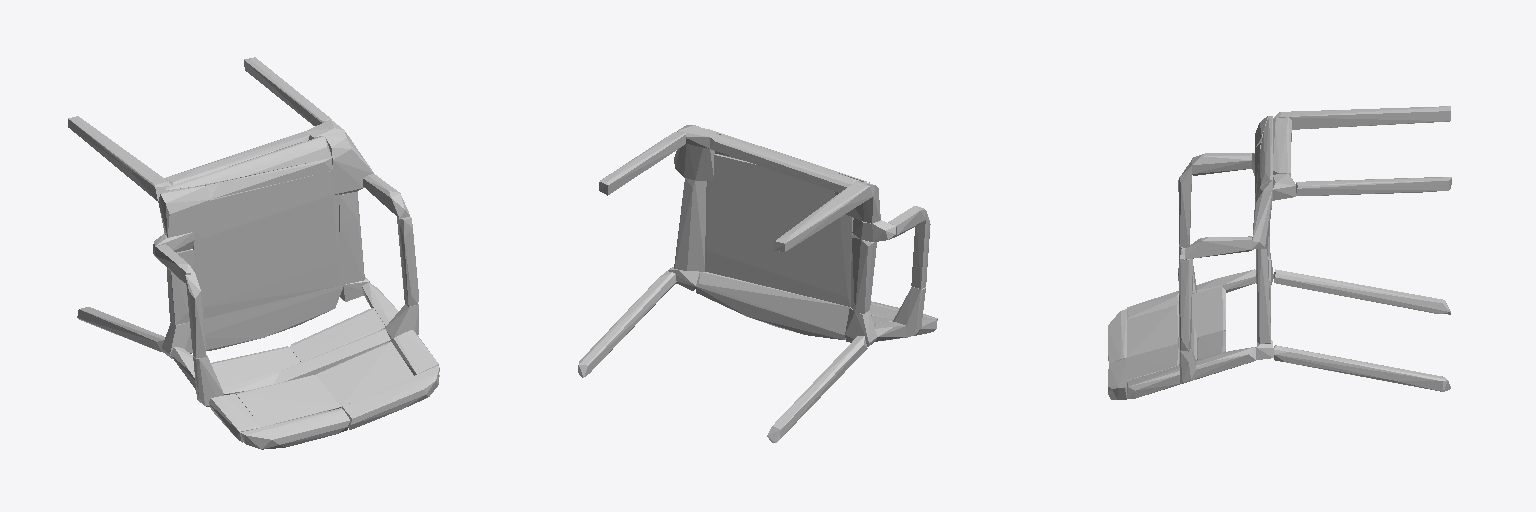
3 views of the same model, side by side, from view 1: azimuth 30°, elevation 25°; view 2: azimuth 150°, elevation 25°; view 3: azimuth 270°, elevation 25° (orthographic).
Parts seen in each view (by area): view 1: convex_23, convex_27, convex_19, convex_18, convex_7, convex_14, convex_6, convex_25, convex_2, convex_32, convex_24, convex_31 (+17 smaller); view 2: convex_23, convex_27, convex_3, convex_24, convex_1, convex_0, convex_2, convex_4, convex_21, convex_8, convex_10, convex_13 (+5 smaller); view 3: convex_2, convex_1, convex_0, convex_4, convex_20, convex_18, convex_14, convex_24, convex_11, convex_19, convex_9, convex_12 (+10 smaller).
Boxes of the visible parts, <box> form: convex_23: <box>193,171,339,318</box>; convex_27: <box>204,285,342,350</box>; convex_19: <box>316,341,413,407</box>; convex_18: <box>236,375,340,426</box>; convex_7: <box>342,366,439,429</box>; convex_14: <box>211,346,300,394</box>; convex_6: <box>240,408,349,449</box>; convex_25: <box>165,136,331,189</box>; convex_2: <box>68,116,171,200</box>; convex_32: <box>290,308,384,362</box>; convex_24: <box>339,191,364,285</box>; convex_31: <box>158,185,209,237</box>; convex_23: <box>705,154,853,306</box>; convex_27: <box>696,272,849,339</box>; convex_3: <box>710,134,858,192</box>; convex_24: <box>674,178,706,271</box>; convex_1: <box>578,271,676,377</box>; convex_0: <box>767,336,867,442</box>; convex_2: <box>774,181,872,251</box>; convex_4: <box>599,132,685,195</box>; convex_21: <box>851,234,876,313</box>; convex_8: <box>674,125,714,180</box>; convex_10: <box>911,211,930,288</box>; convex_13: <box>893,287,925,337</box>; convex_2: <box>1273,106,1450,129</box>; convex_1: <box>1274,345,1450,391</box>; convex_0: <box>1274,269,1450,314</box>; convex_4: <box>1296,177,1451,195</box>; convex_20: <box>1127,347,1255,398</box>; convex_18: <box>1127,305,1178,356</box>; convex_14: <box>1192,286,1225,337</box>; convex_24: <box>1256,246,1270,343</box>; convex_11: <box>1178,255,1192,351</box>; convex_19: <box>1127,344,1178,382</box>; convex_9: <box>1192,153,1251,175</box>; convex_12: <box>1185,236,1251,259</box>.
Bounding box in the file's own units: 0.5807 × 0.5597 × 0.7509.